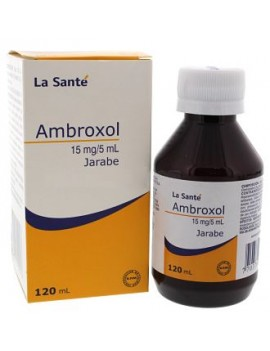LaSante: (23, 58, 148, 300)
